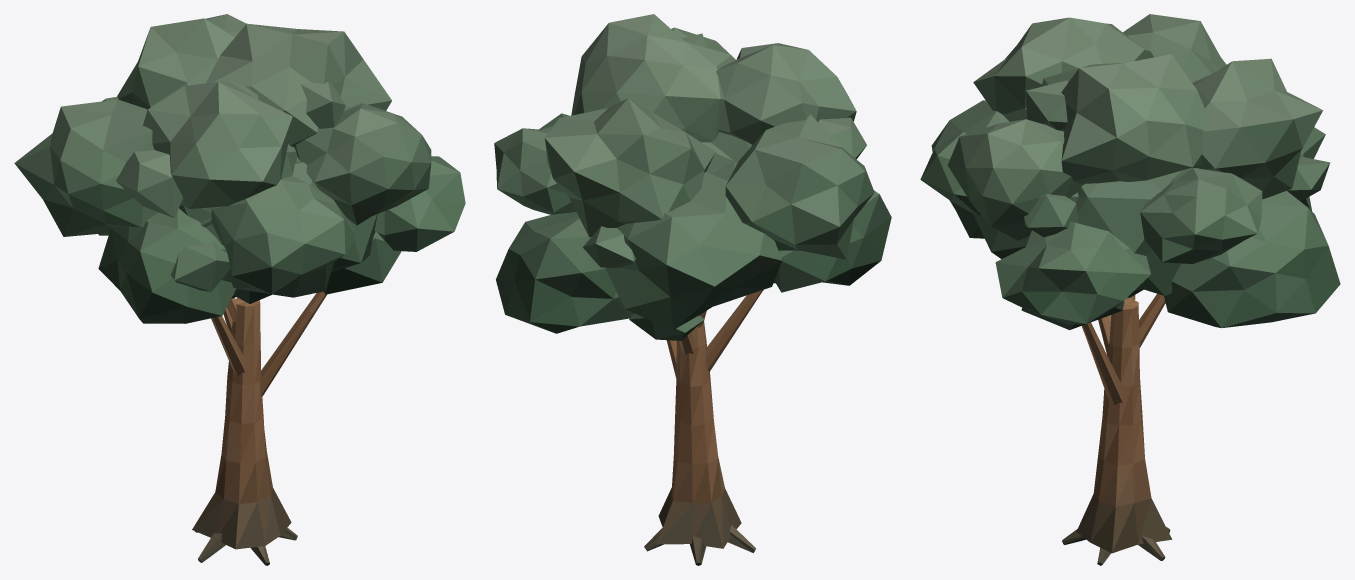
The model's file is broadleaf-round-full.glb.
3 renders of one model, left to right at view 1: azimuth 30°, elevation 25°; view 2: azimuth 150°, elevation 25°; view 3: azimuth 270°, elevation 25°, orthographic. The views are drawn at different scales.
Visible parts, largest first — view 1: canopy, trunk; view 2: canopy, trunk; view 3: canopy, trunk.
Part boxes in pixels (x1,y1,x2,y2): canopy: (14,14,465,323); trunk: (192,291,326,565); canopy: (494,14,891,340); trunk: (644,290,763,565); canopy: (920,14,1340,330); trunk: (1062,293,1172,565).
Bounding box in the file's own units: 6.17 × 8 × 5.95.
